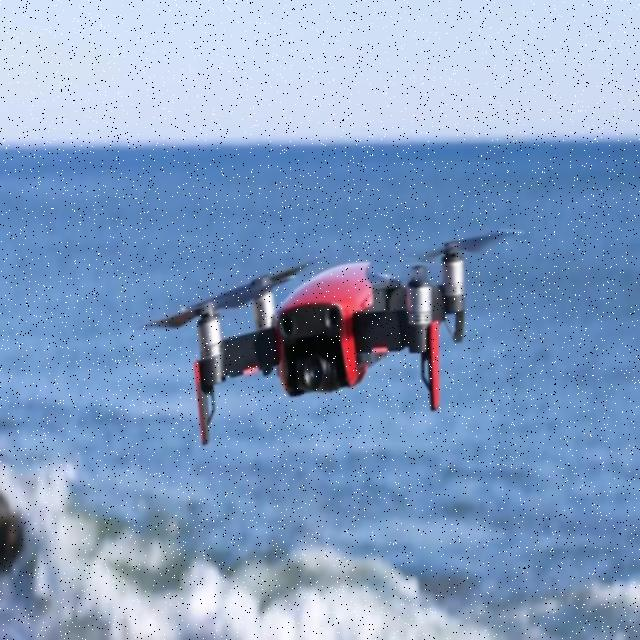UAV: (138, 229, 526, 447)
